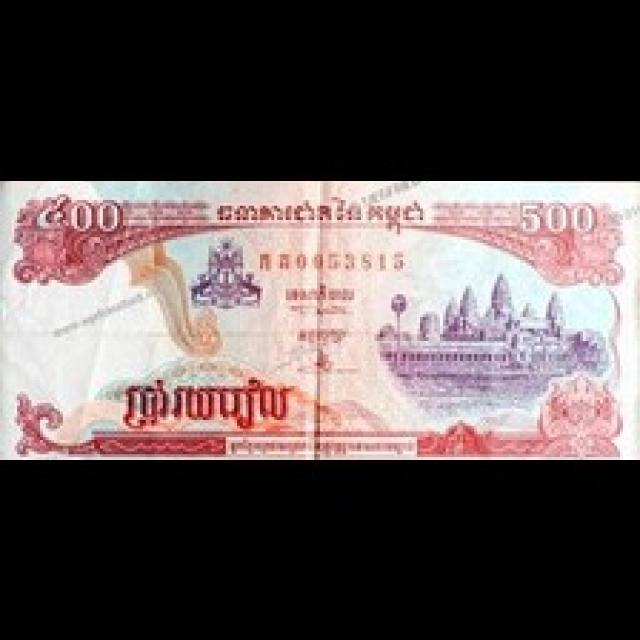banknote: (1, 178, 640, 456), (513, 198, 601, 245)
